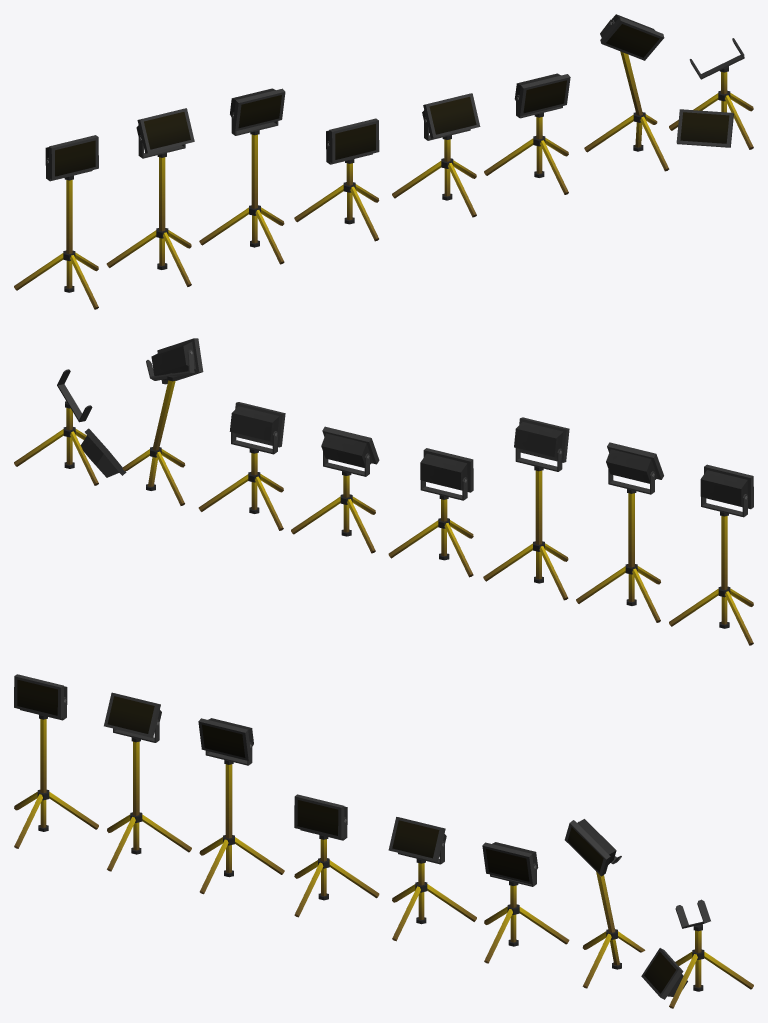
Rendered from Asset_Reflectores.fbx.
3 views of the same model, one above another, from view 1: azimuth 30°, elevation 25°; view 2: azimuth 150°, elevation 25°; view 3: azimuth 330°, elevation 25° (orthographic).
Parts seen in each view (by area): view 1: asset_Reflector1, asset_Reflector2, asset_Reflector, asset_Reflector_chico_roto, asset_Reflector_chico1, asset_Reflector_roto, asset_Reflector_chico2, asset_Reflector_chico; view 2: asset_Reflector2, asset_Reflector, asset_Reflector1, asset_Reflector_chico2, asset_Reflector_chico, asset_Reflector_chico1, asset_Reflector_roto, asset_Reflector_chico_roto; view 3: asset_Reflector1, asset_Reflector2, asset_Reflector, asset_Reflector_chico1, asset_Reflector_chico2, asset_Reflector_chico, asset_Reflector_chico_roto, asset_Reflector_roto.
Part boxes in pixels (x1,y1,x2,y2): asset_Reflector1: (106, 108, 194, 286); asset_Reflector2: (199, 88, 285, 264); asset_Reflector: (14, 135, 98, 309); asset_Reflector_chico_roto: (669, 38, 753, 149); asset_Reflector_chico1: (392, 93, 480, 217); asset_Reflector_roto: (584, 14, 669, 171); asset_Reflector_chico2: (484, 73, 570, 194); asset_Reflector_chico: (294, 118, 379, 241); asset_Reflector2: (483, 417, 569, 600); asset_Reflector: (669, 464, 753, 645); asset_Reflector1: (576, 442, 663, 622); asset_Reflector_chico2: (198, 402, 285, 530); asset_Reflector_chico: (388, 448, 473, 577); asset_Reflector_chico1: (291, 426, 379, 553); asset_Reflector_roto: (122, 338, 203, 505); asset_Reflector_chico_roto: (14, 369, 126, 485); asset_Reflector1: (104, 692, 191, 871); asset_Reflector2: (198, 718, 284, 894); asset_Reflector: (14, 674, 98, 848); asset_Reflector_chico1: (388, 817, 476, 941); asset_Reflector_chico2: (482, 842, 569, 963); asset_Reflector_chico: (294, 794, 379, 917); asset_Reflector_chico_roto: (641, 899, 753, 1008); asset_Reflector_roto: (564, 819, 645, 988).
Bounding box in the file's own units: 356 × 71.43 × 36.28.
